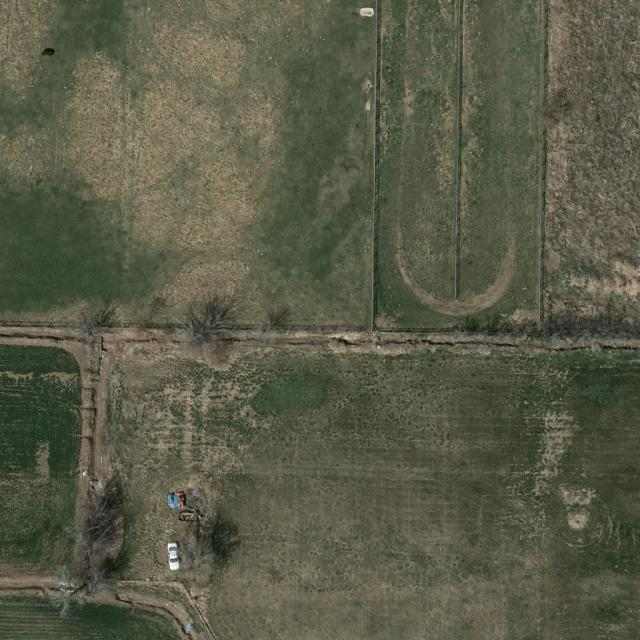vehicle: (167, 543, 180, 570)
